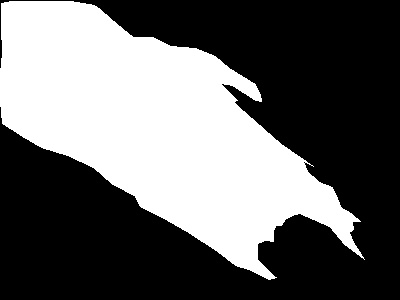Fire: (2, 29, 105, 129), (33, 1, 156, 65), (157, 100, 252, 180), (270, 167, 361, 237)
